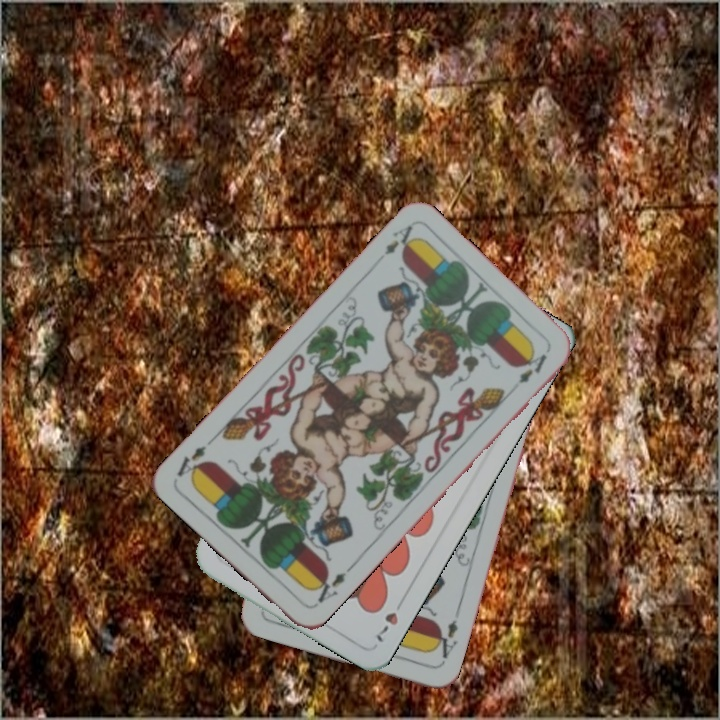EA: (308, 568, 349, 606), (429, 615, 461, 661), (380, 221, 419, 258)
H7: (371, 608, 401, 645)
